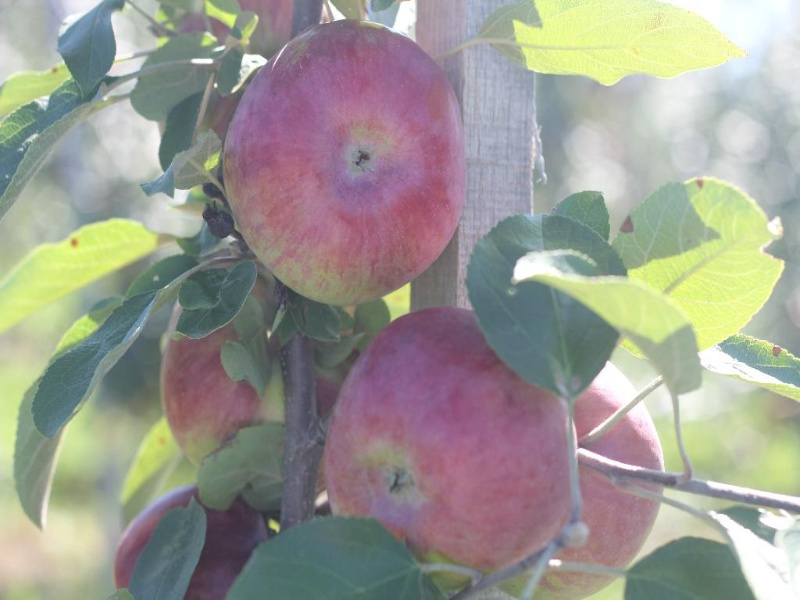apple: (219, 15, 464, 305), (319, 308, 573, 569)
